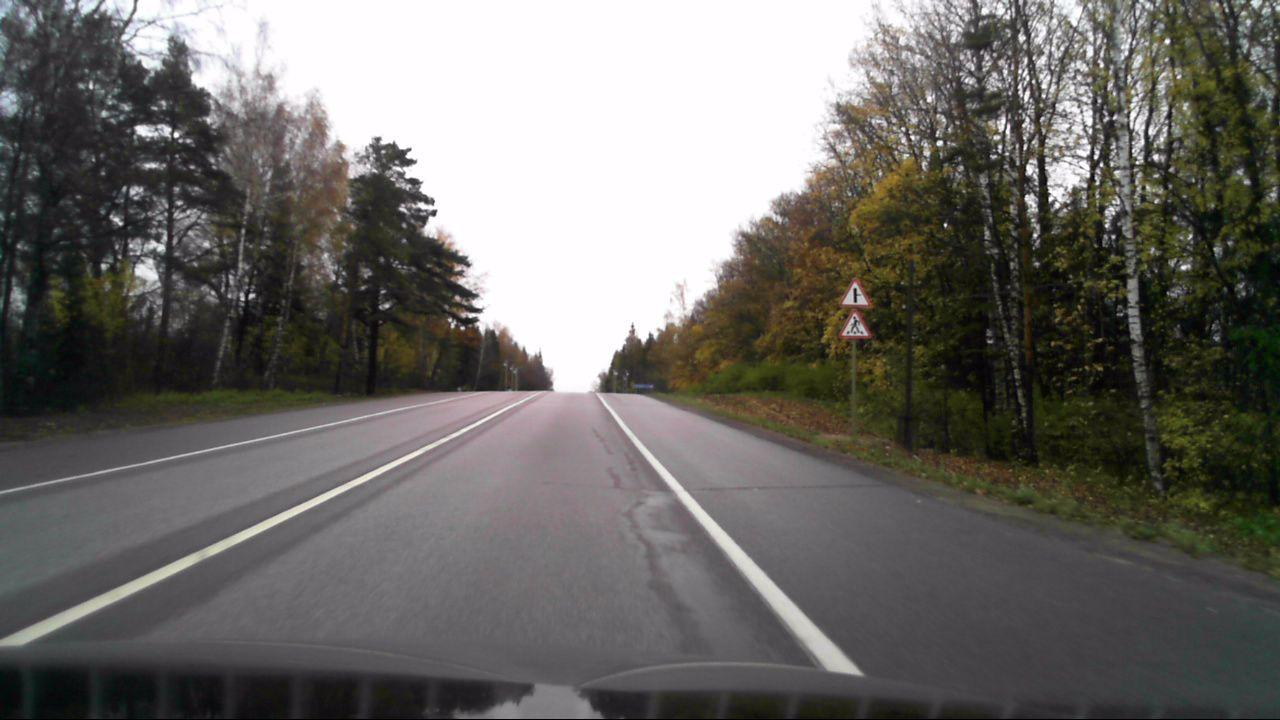1_22: (839, 312, 873, 339)
2_3_2: (838, 278, 871, 308)
